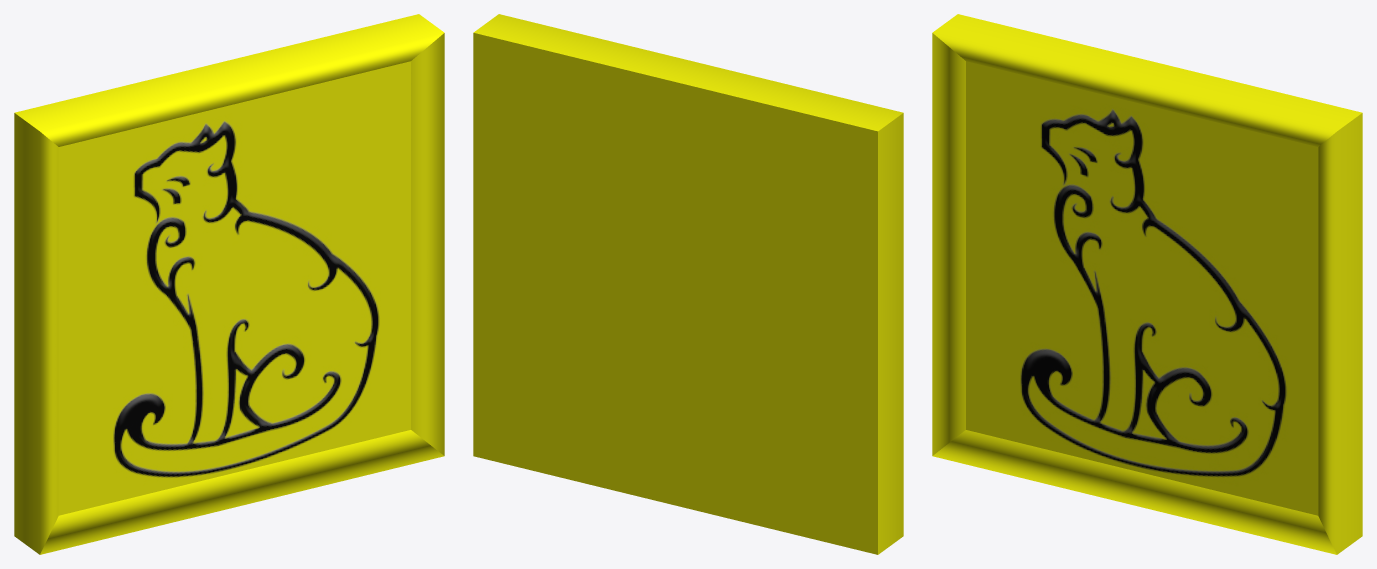
The model's file is Yellow Cat.fbx.
3 views of the same model, side by side, from view 1: azimuth 30°, elevation 25°; view 2: azimuth 150°, elevation 25°; view 3: azimuth 330°, elevation 25° (orthographic).
Visible parts, largest first — view 1: pCube1; view 2: pCube1; view 3: pCube1.
Boxes of the visible parts, bbox=[...] form: pCube1: bbox=[14, 14, 444, 554]; pCube1: bbox=[473, 14, 903, 554]; pCube1: bbox=[932, 14, 1362, 554].
Size of the model in its own units: 3 by 3 by 0.3283.
1 material, 1 textured.
